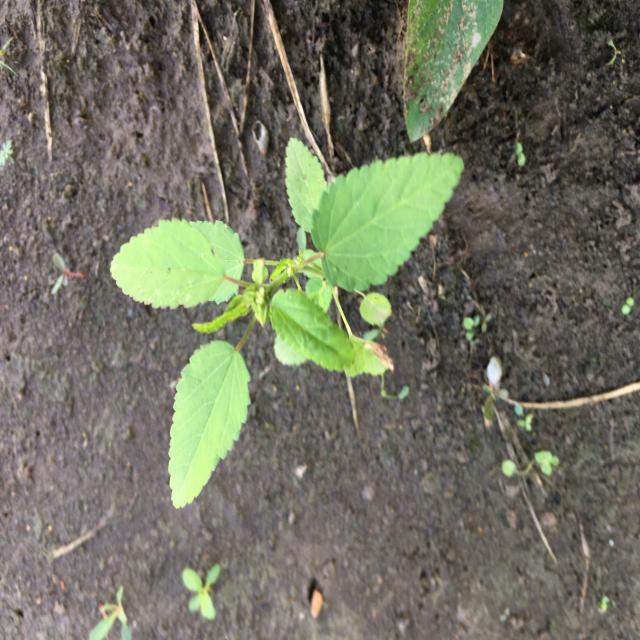PricklySida: (108, 135, 467, 511)
